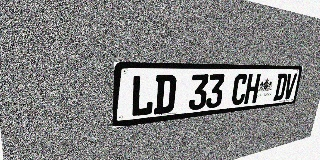3: (188, 74, 209, 111), (205, 74, 225, 109)
C: (230, 74, 248, 106)
D: (153, 75, 177, 115), (273, 73, 288, 101)
H: (244, 74, 261, 104)
L: (130, 75, 155, 117)
V: (283, 73, 297, 100)
